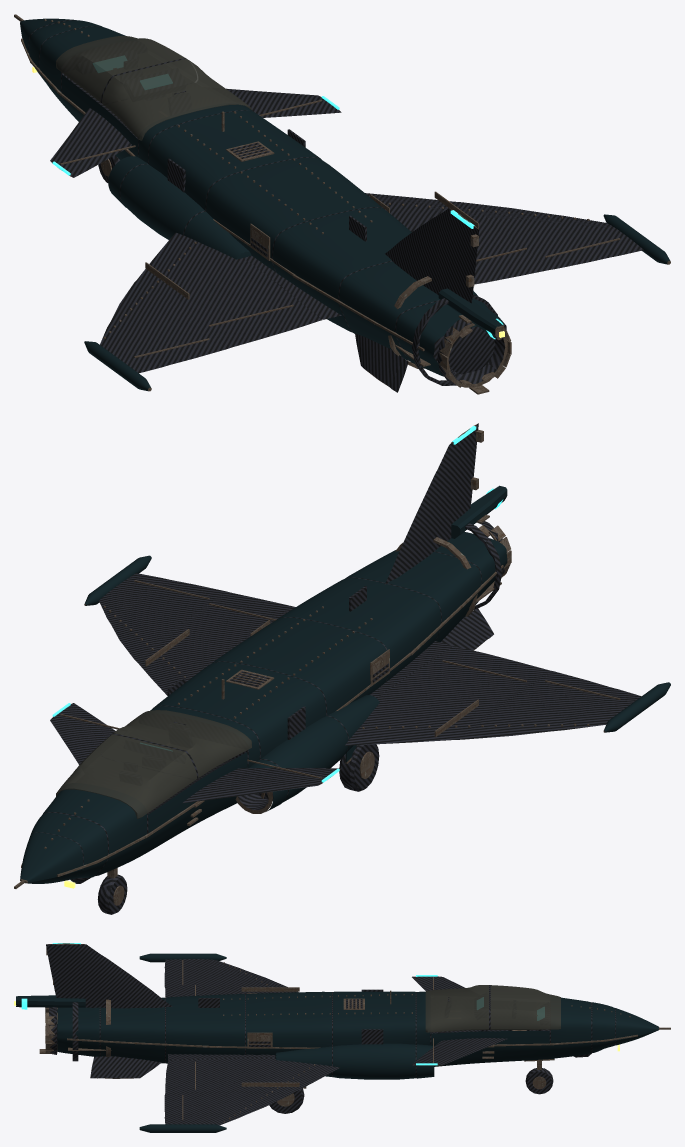
File: basement_v4.glb
3 renders of one model, top to bottom at view 1: azimuth 30°, elevation 25°; view 2: azimuth 150°, elevation 25°; view 3: azimuth 270°, elevation 25°, orthographic. The views are drawn at different scales.
Visible parts, largest first — view 1: basement_core, basement_wing_l, basement_wing_r, basement_canard_l, basement_canard_r; view 2: basement_core, basement_wing_l, basement_wing_r, basement_canard_l, basement_gear_down, basement_canard_r; view 3: basement_core, basement_wing_r, basement_wing_l, basement_canard_r, basement_gear_down, basement_canard_l.
Boxes of the visible parts, bbox=[...] form: basement_core: bbox=[14, 14, 511, 394]; basement_wing_l: bbox=[84, 232, 321, 391]; basement_wing_r: bbox=[365, 191, 670, 284]; basement_canard_l: bbox=[50, 108, 135, 177]; basement_canard_r: bbox=[226, 88, 341, 117]; basement_core: bbox=[14, 423, 511, 888]; basement_wing_l: bbox=[345, 646, 670, 745]; basement_wing_r: bbox=[84, 555, 295, 695]; basement_canard_l: bbox=[182, 759, 341, 803]; basement_gear_down: bbox=[97, 744, 379, 914]; basement_canard_r: bbox=[50, 703, 119, 764]; basement_core: bbox=[14, 943, 670, 1079]; basement_wing_r: bbox=[139, 1057, 339, 1132]; basement_wing_l: bbox=[139, 953, 299, 997]; basement_canard_r: bbox=[412, 1038, 507, 1065]; basement_gear_down: bbox=[269, 1058, 554, 1113]; basement_canard_l: bbox=[412, 975, 464, 990].
Size of the model in its own units: 5.68 by 2.28 by 9.04.
Materials: 10 (4 with a texture image).
